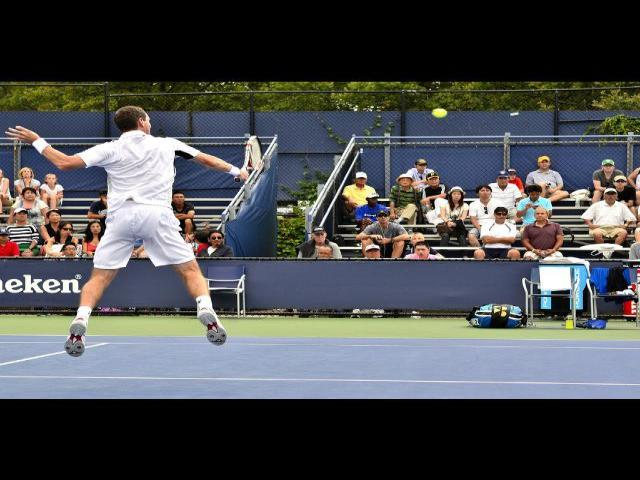tennis-ball: (432, 108, 447, 118)
